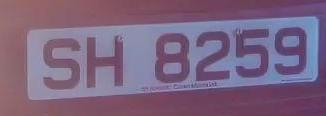2: (191, 23, 235, 87)
5: (229, 20, 274, 85)
8: (149, 25, 196, 93)
9: (270, 19, 313, 84)
H: (79, 30, 133, 98)
S: (35, 33, 86, 97)
